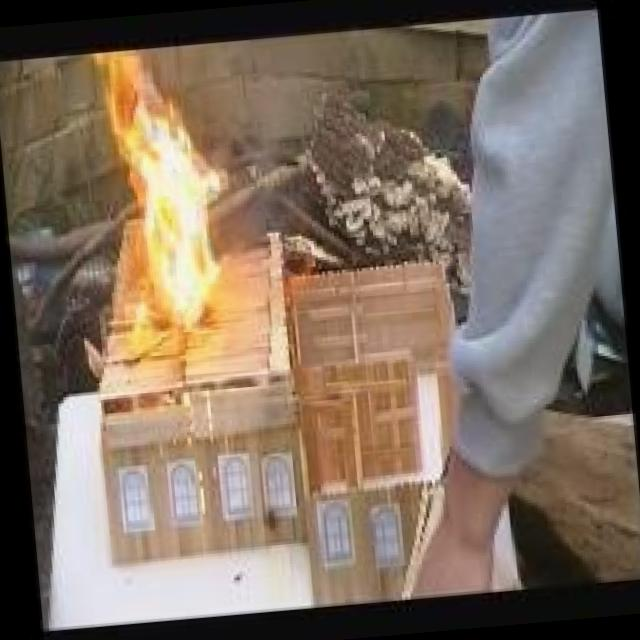fire: (70, 37, 233, 354)
